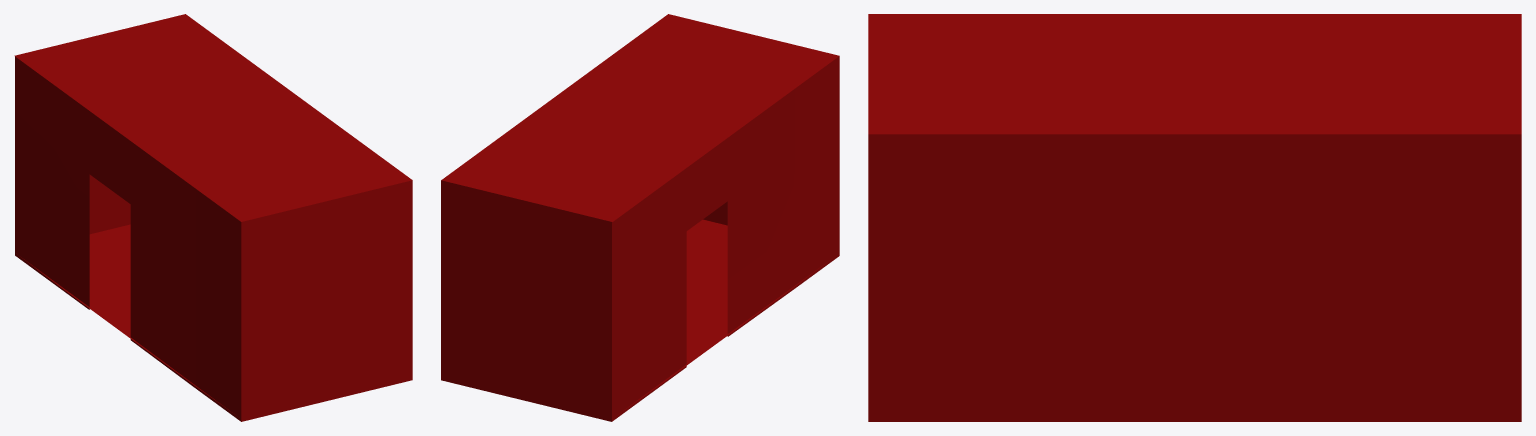
File: Cocina.fbx
3 renders of one model, left to right at view 1: azimuth 30°, elevation 25°; view 2: azimuth 150°, elevation 25°; view 3: azimuth 270°, elevation 25°, orthographic. The views are drawn at different scales.
Parts seen in each view (by area): view 1: ParedCocina2, TechoCocina, ParedCocina, Pisococina, ParedCocina3; view 2: ParedCocina2, TechoCocina, ParedCocina3, Pisococina; view 3: ParedCocina1, TechoCocina.
Part boxes in pixels (bbox=[...]): ParedCocina2: bbox=[15, 56, 241, 421]; TechoCocina: bbox=[14, 14, 412, 221]; ParedCocina: bbox=[241, 180, 412, 421]; Pisococina: bbox=[21, 224, 232, 412]; ParedCocina3: bbox=[89, 174, 130, 234]; ParedCocina2: bbox=[612, 56, 839, 421]; TechoCocina: bbox=[441, 14, 839, 221]; ParedCocina3: bbox=[441, 180, 611, 421]; Pisococina: bbox=[615, 219, 829, 416]; ParedCocina1: bbox=[868, 134, 1521, 421]; TechoCocina: bbox=[868, 14, 1521, 134].
Bounding box in the file's own units: 307 × 340 × 700.
